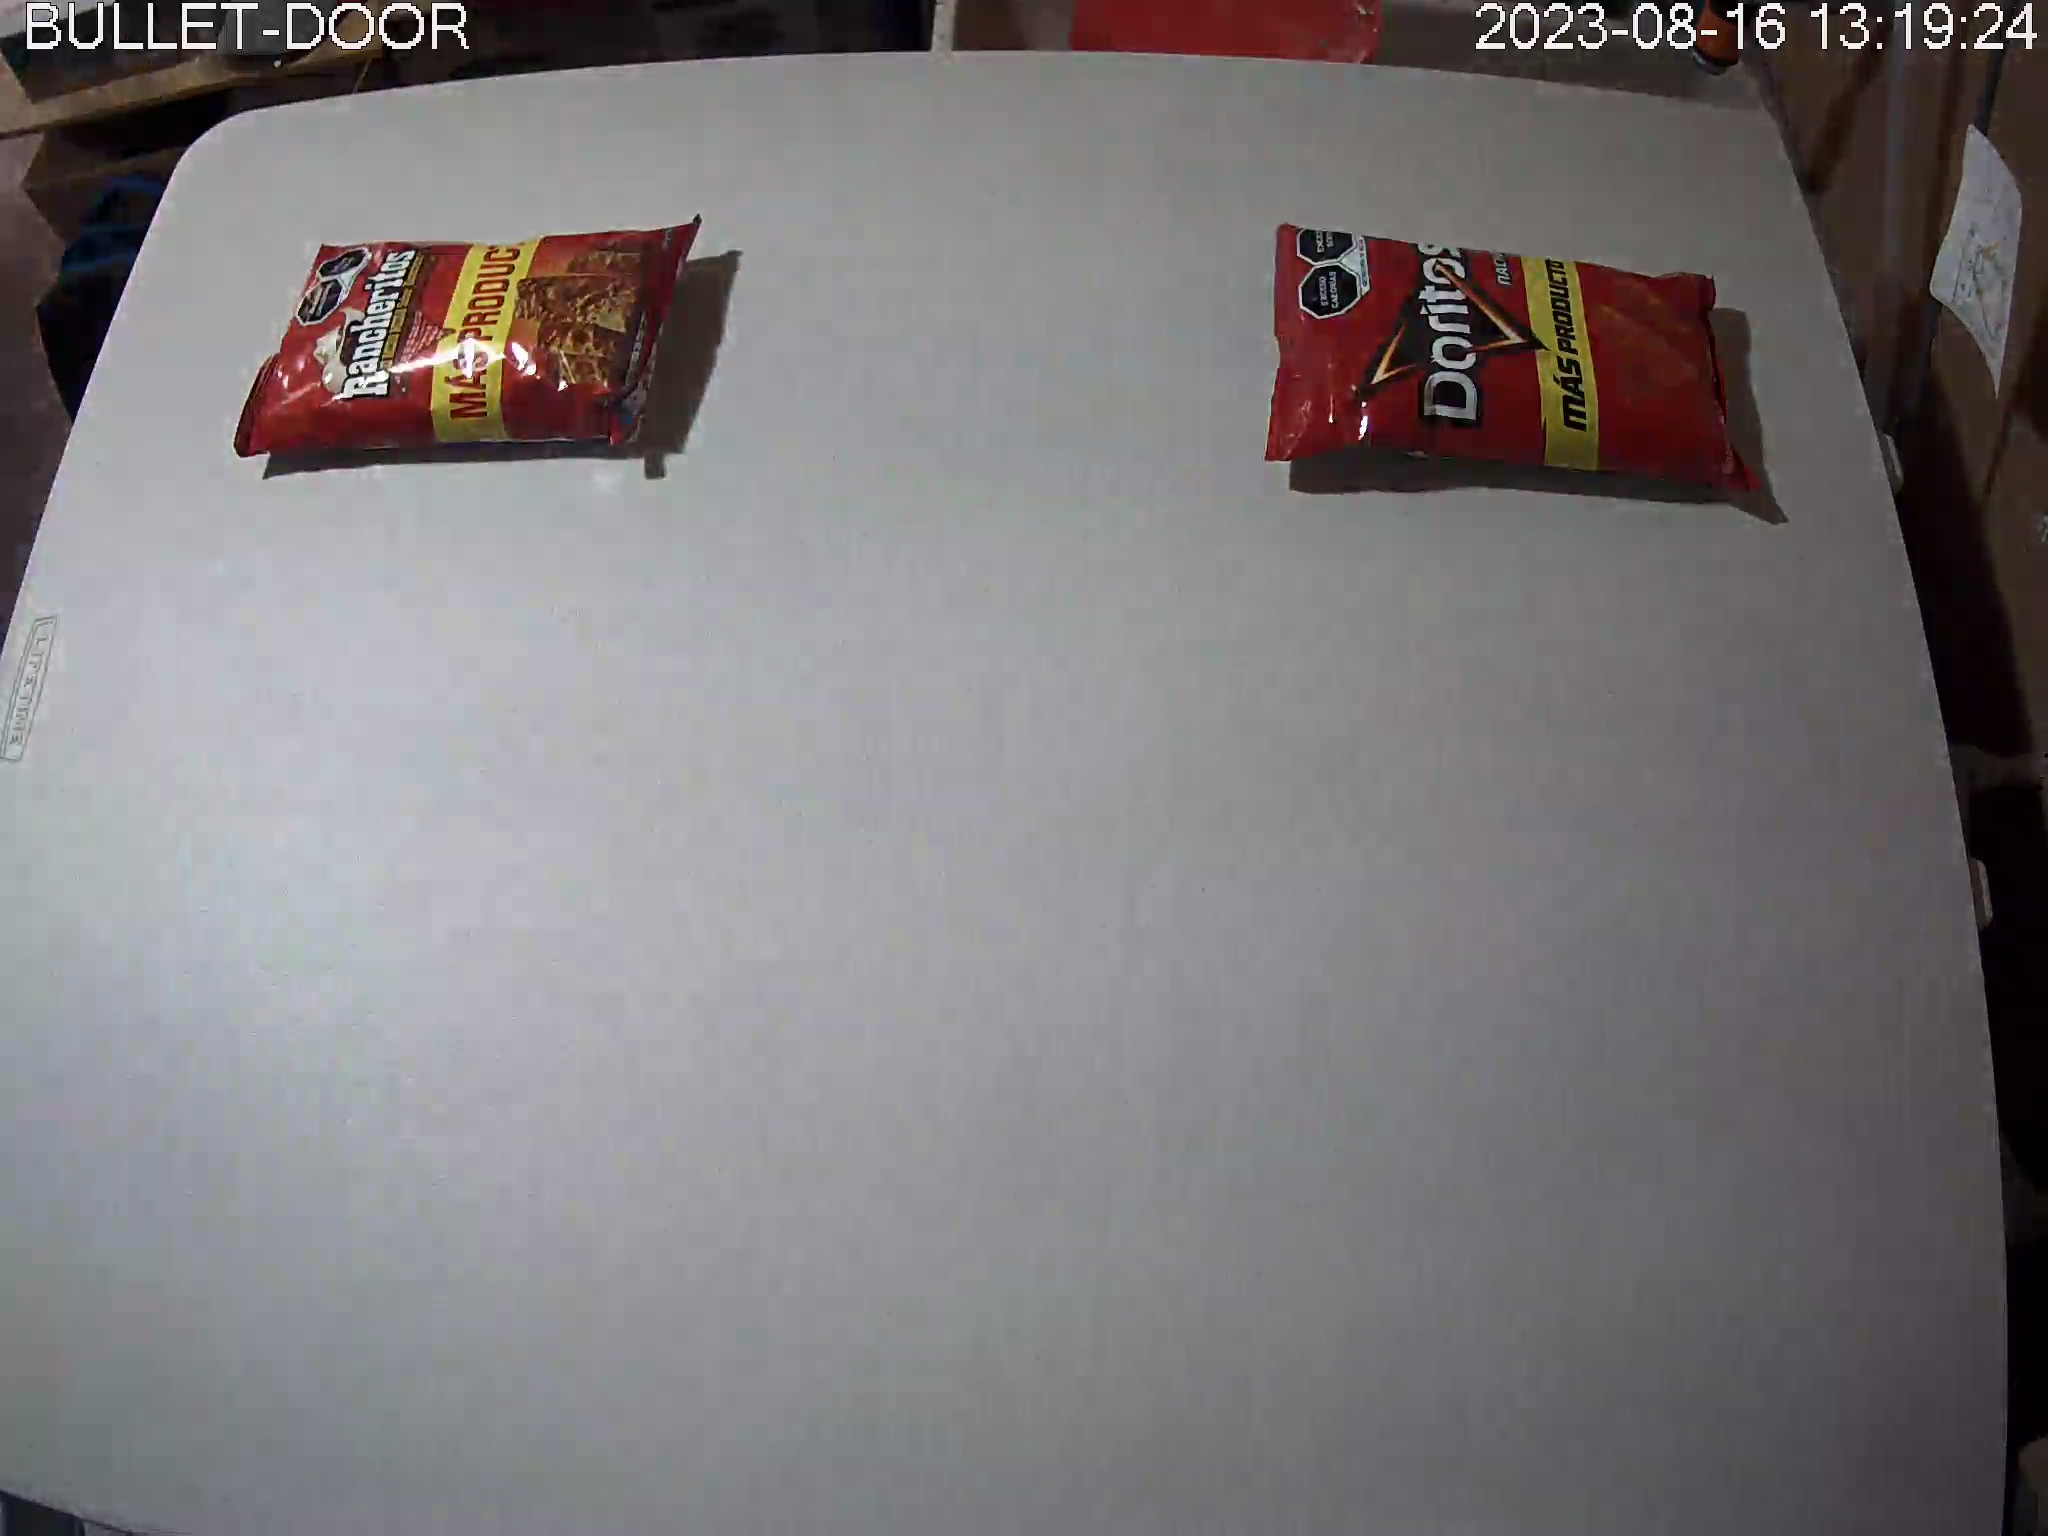DoritosN_61_F: (1263, 219, 1771, 500)
Rancheritos_58_F: (232, 210, 706, 463)
